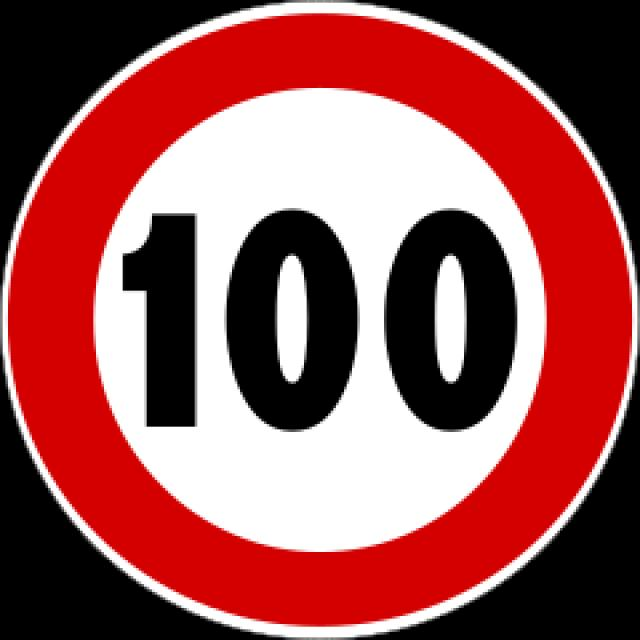Speed Limit -90-: (120, 210, 528, 430)
